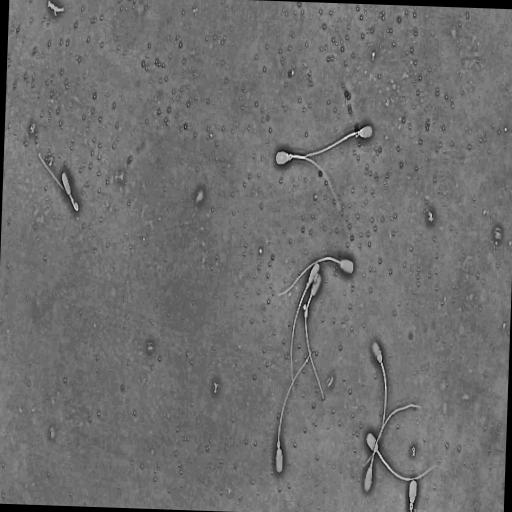distal-droplet: (304, 309, 307, 318)
folded-tail: (38, 154, 70, 197), (70, 195, 78, 211)
normal: (273, 147, 351, 242), (363, 402, 422, 494), (274, 347, 312, 474), (289, 260, 321, 394), (364, 430, 435, 482), (277, 254, 354, 296), (295, 122, 374, 162), (365, 337, 388, 466), (303, 271, 325, 404), (35, 151, 80, 213), (406, 479, 418, 512)
proximal-droplet: (276, 440, 280, 448), (409, 502, 413, 510), (354, 130, 359, 136), (306, 281, 310, 288), (288, 153, 292, 159)
